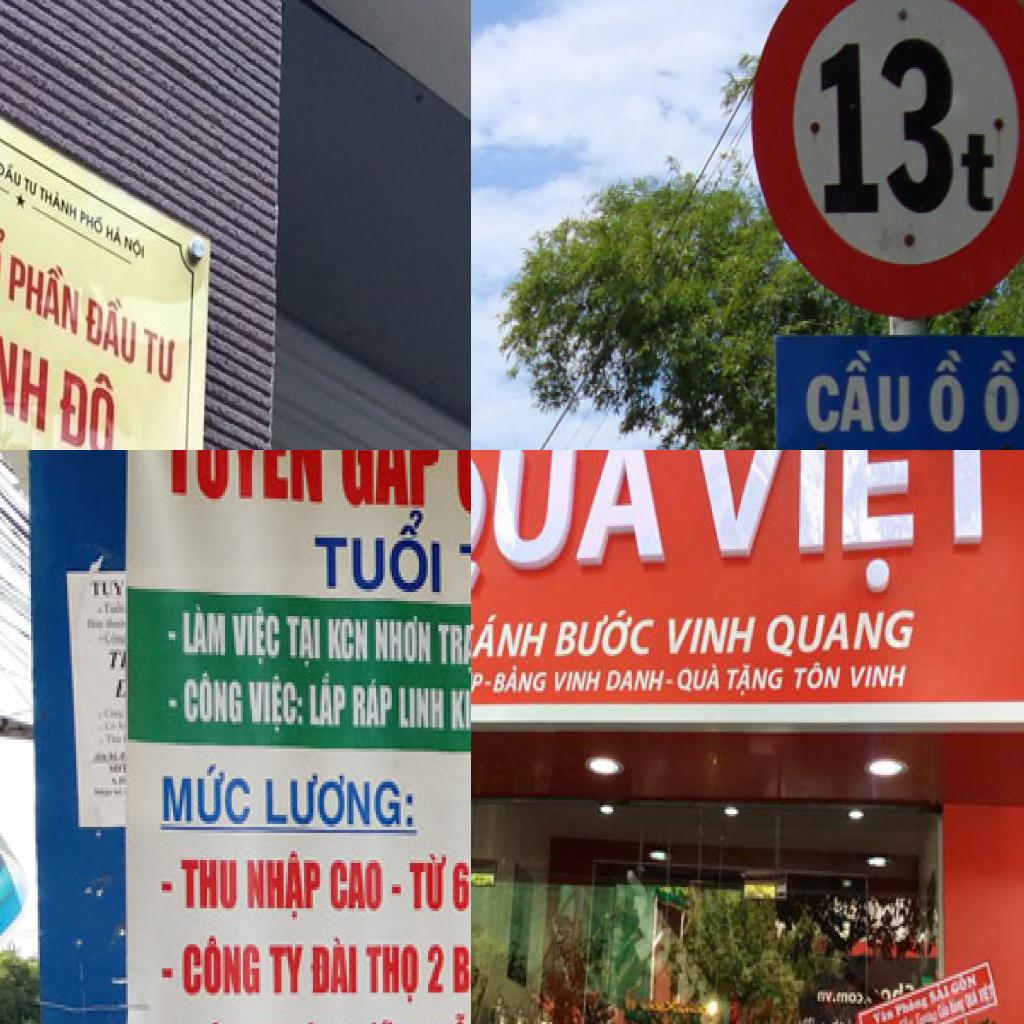text: (674, 450, 1024, 599), (471, 450, 677, 597), (816, 30, 965, 222), (159, 450, 333, 519), (308, 508, 446, 592), (800, 345, 918, 443), (261, 767, 419, 833), (0, 266, 54, 435), (768, 606, 918, 661), (337, 450, 446, 519), (7, 242, 82, 340), (155, 758, 257, 830), (553, 602, 659, 663), (56, 350, 117, 450), (238, 851, 322, 923), (178, 932, 266, 999), (961, 116, 1013, 223), (360, 929, 424, 1014), (82, 281, 140, 371), (659, 610, 763, 658), (324, 851, 390, 917), (978, 343, 1024, 437), (471, 608, 551, 660), (175, 592, 232, 664), (923, 345, 970, 431), (243, 674, 306, 736), (178, 848, 238, 911), (403, 845, 451, 917), (182, 668, 243, 724), (230, 601, 282, 664), (344, 674, 396, 736), (308, 936, 360, 998), (374, 613, 437, 664), (282, 607, 326, 676), (302, 670, 346, 737), (326, 613, 374, 673), (399, 680, 448, 736), (264, 936, 308, 998), (140, 321, 178, 392), (726, 663, 788, 700), (434, 619, 471, 679), (603, 666, 669, 698), (846, 663, 912, 695), (791, 663, 845, 698), (493, 666, 550, 698), (38, 181, 80, 224), (446, 676, 471, 748), (448, 929, 471, 1001), (421, 938, 448, 998), (452, 516, 471, 601), (554, 668, 604, 700), (678, 661, 722, 697), (452, 847, 471, 920), (891, 990, 932, 1022), (87, 577, 126, 601), (80, 206, 106, 240), (951, 970, 980, 999), (0, 156, 23, 190), (927, 979, 953, 1008), (124, 232, 146, 263), (104, 221, 125, 251), (870, 1003, 896, 1024), (836, 988, 864, 1006), (24, 173, 42, 200), (471, 665, 484, 697), (816, 988, 833, 1004)
